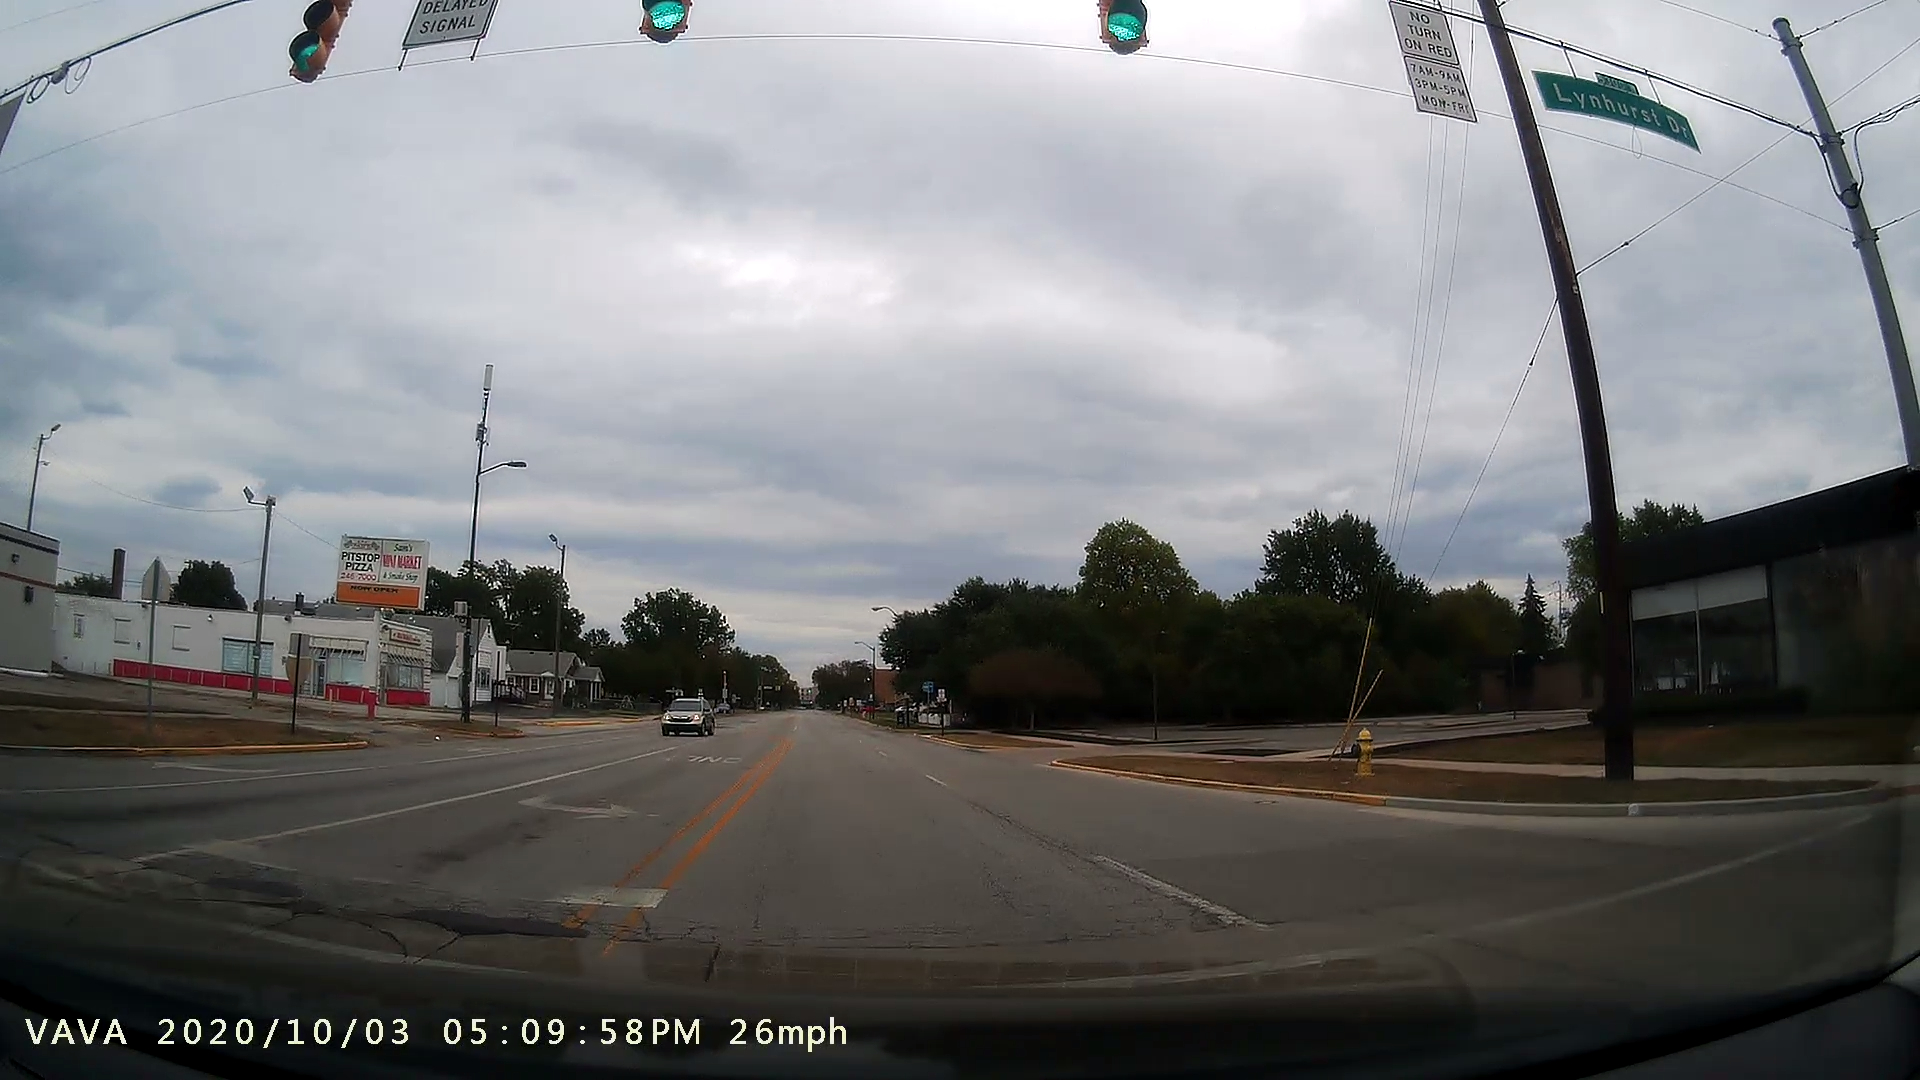fire_hydrant: (1345, 715, 1382, 791)
